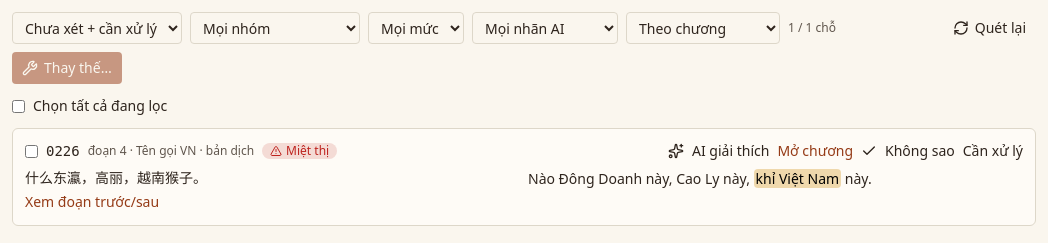
Test case: VnCheckPanel › chỗ đã chọn rồi bị ẩn bởi bộ lọc thì không còn tính vào 'Thay thế'
Click the checkbox named "Chọn 0226:4:khi-viet" at (32, 151), box 25,144 -> 38,158
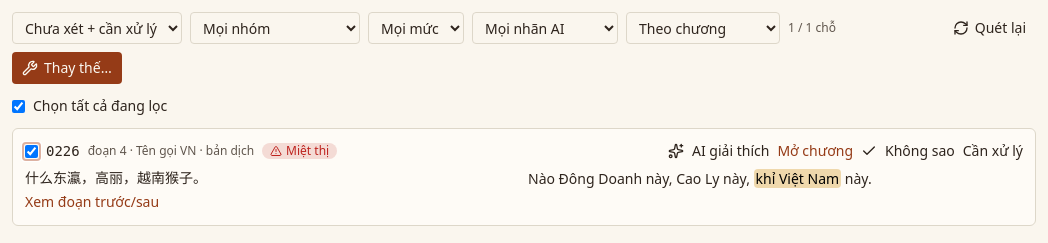
Click the button with aria-label "Không sao 0226:4:khi-viet" at (908, 151), box 861,141 -> 955,161
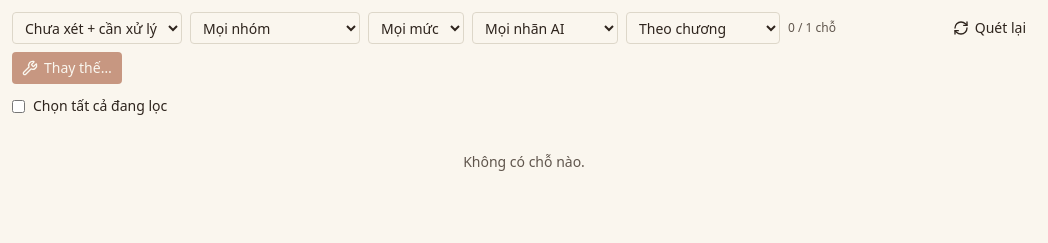
Expected: the text "0226" is gone
Expected: the button "Thay thế…" is disabled, 12,52 -> 122,84
